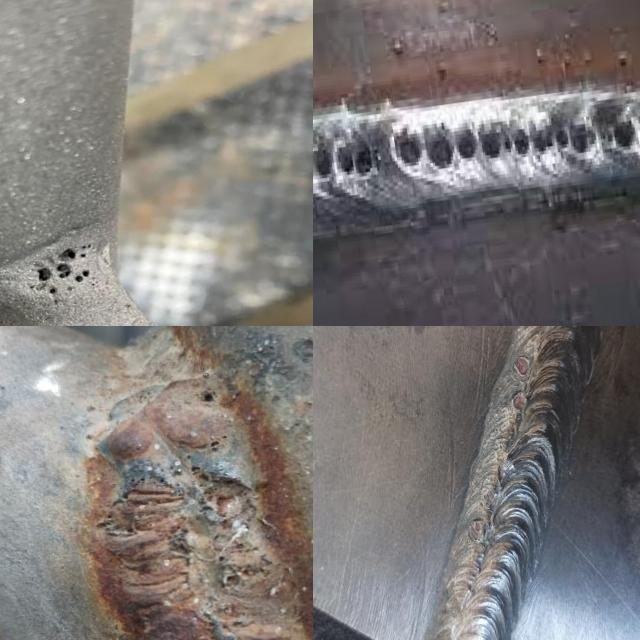defect: (385, 115, 603, 174), (103, 469, 174, 539), (313, 133, 384, 189), (187, 463, 258, 519), (608, 103, 640, 158), (157, 511, 194, 553), (218, 562, 262, 588), (59, 242, 99, 261), (203, 430, 232, 454), (510, 353, 532, 379), (195, 386, 220, 407), (509, 392, 528, 415), (467, 519, 484, 544), (481, 485, 498, 509), (33, 267, 54, 284), (55, 263, 75, 280), (72, 269, 94, 284), (493, 437, 507, 456), (90, 279, 100, 289), (47, 287, 58, 295), (66, 284, 77, 292), (50, 299, 61, 307)
